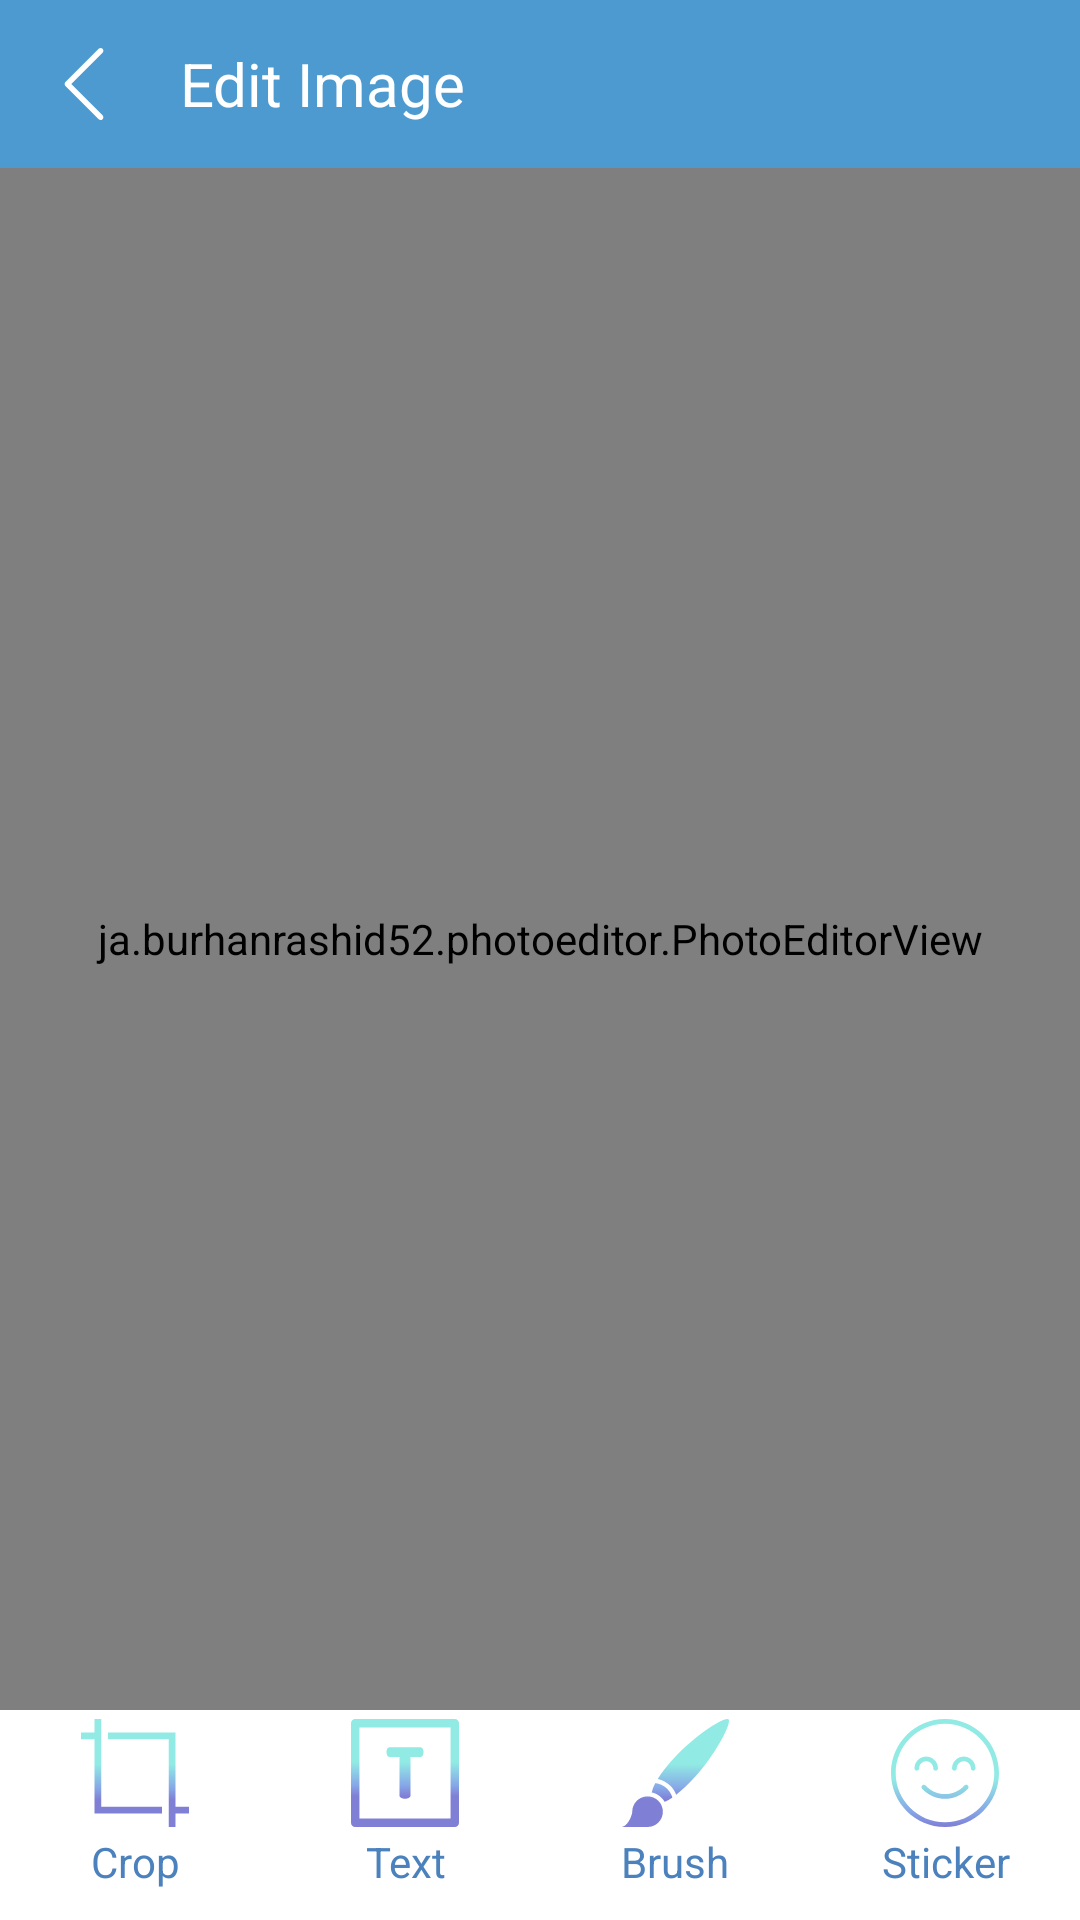

Icon bounding boxes for this 1080×1920 phone screenshot, format (x1, y1, x2, y2):
Back: (64, 48, 104, 120)
